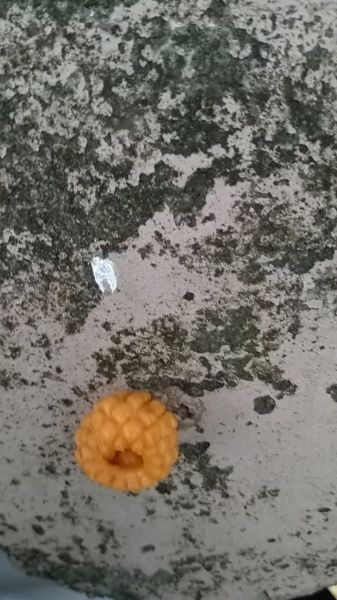eggs: (66, 382, 186, 493)
